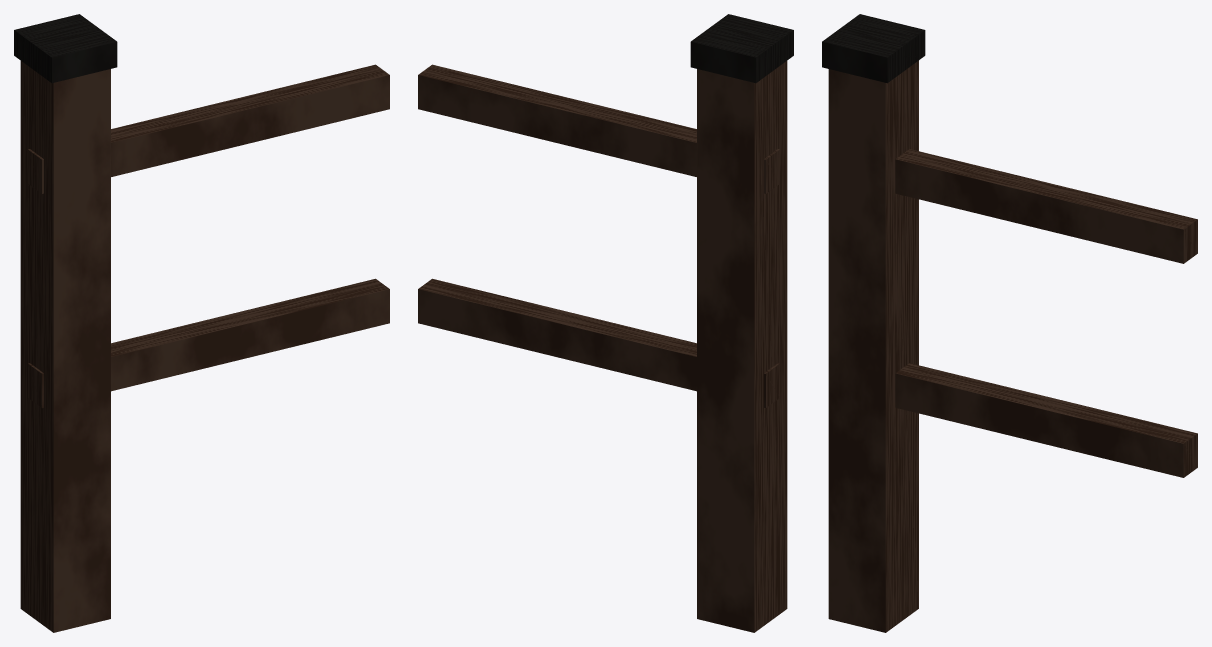
File: fence-post.glb
The picture shows the model from 3 angles, left to right: view 1: azimuth 30°, elevation 25°; view 2: azimuth 150°, elevation 25°; view 3: azimuth 330°, elevation 25°; orthographic projection.
Parts seen in each view (by area): view 1: fence-post; view 2: fence-post; view 3: fence-post.
Part boxes in pixels (x1,y1,x2,y2): fence-post: (14, 14, 389, 632); fence-post: (418, 14, 793, 632); fence-post: (822, 14, 1197, 632).
Bounding box in the file's own units: 0.855 × 1.35 × 0.16.
Materials: 2 (2 with a texture image).
